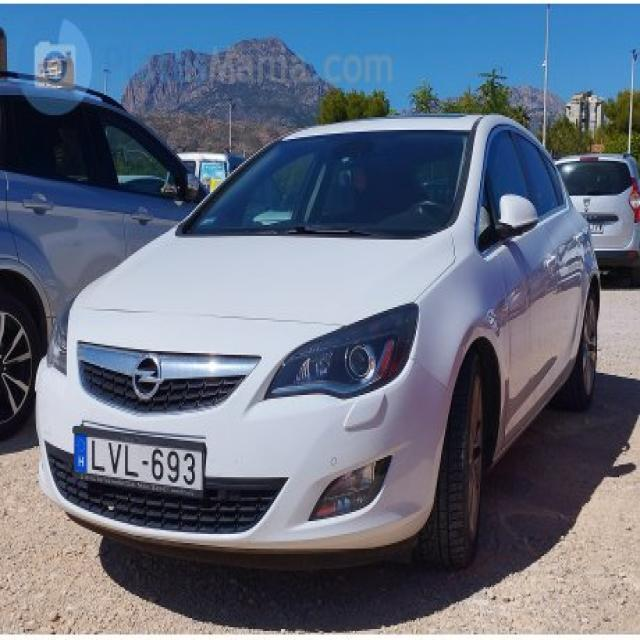licence: (71, 425, 205, 502)
